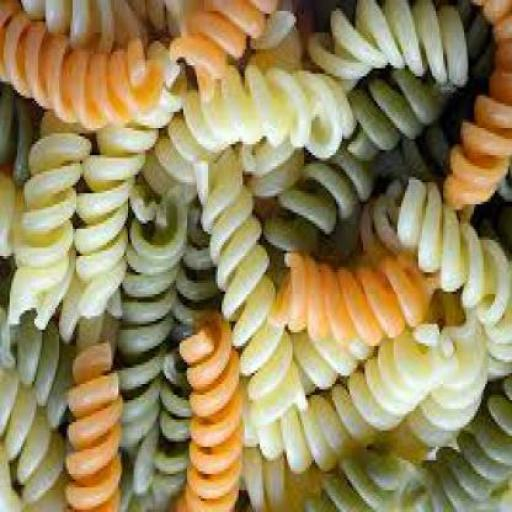biodegradable: (193, 155, 308, 431), (71, 54, 185, 332), (137, 68, 355, 210), (239, 335, 447, 476), (342, 6, 495, 166), (0, 2, 161, 136), (316, 6, 466, 144), (384, 180, 510, 343), (151, 213, 218, 498), (6, 112, 92, 332), (382, 318, 489, 466), (166, 315, 243, 511), (396, 384, 511, 511), (268, 257, 435, 340), (449, 2, 510, 207), (260, 150, 373, 259), (0, 275, 73, 430), (169, 2, 277, 104), (60, 343, 123, 511), (0, 364, 65, 511), (17, 3, 157, 54), (300, 452, 406, 512), (0, 86, 33, 265), (380, 117, 454, 186), (338, 188, 409, 259), (239, 449, 320, 511), (252, 8, 300, 68), (483, 312, 510, 382), (0, 449, 18, 510)
